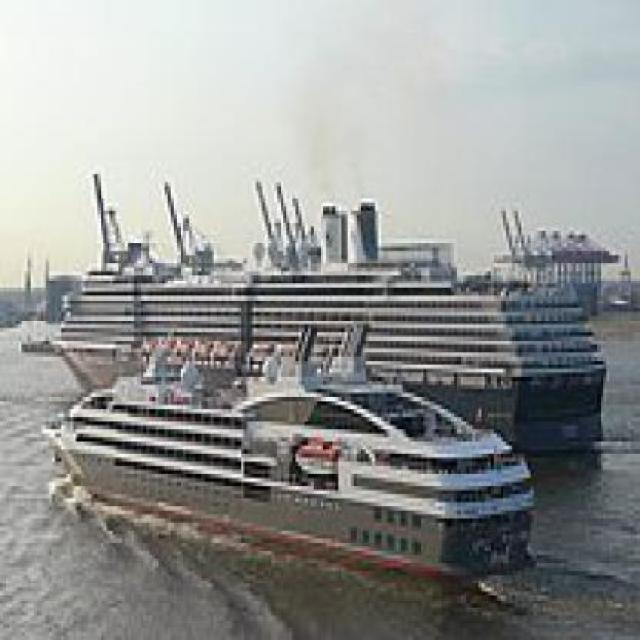cruise: (31, 163, 617, 459), (40, 337, 540, 593)
